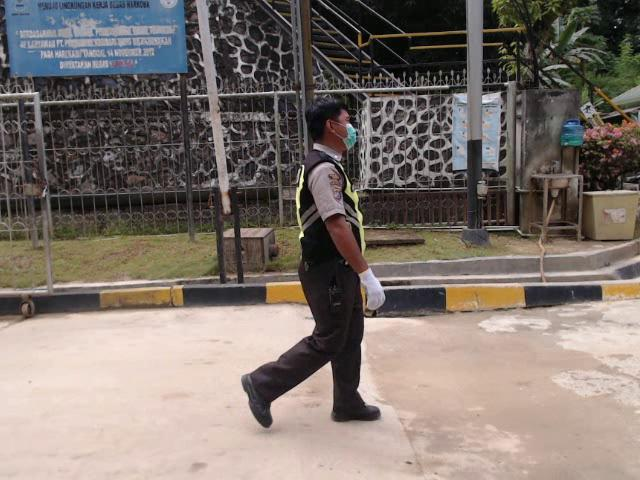gloves: (358, 267, 388, 312)
mask: (344, 125, 357, 151)
safety-shoes: (238, 373, 278, 430), (330, 401, 382, 426)
